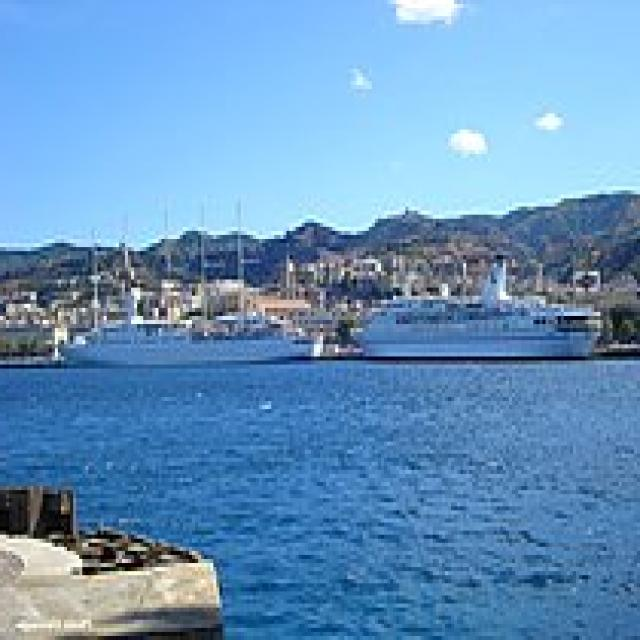Cruise: (350, 247, 610, 361), (55, 308, 329, 364)
